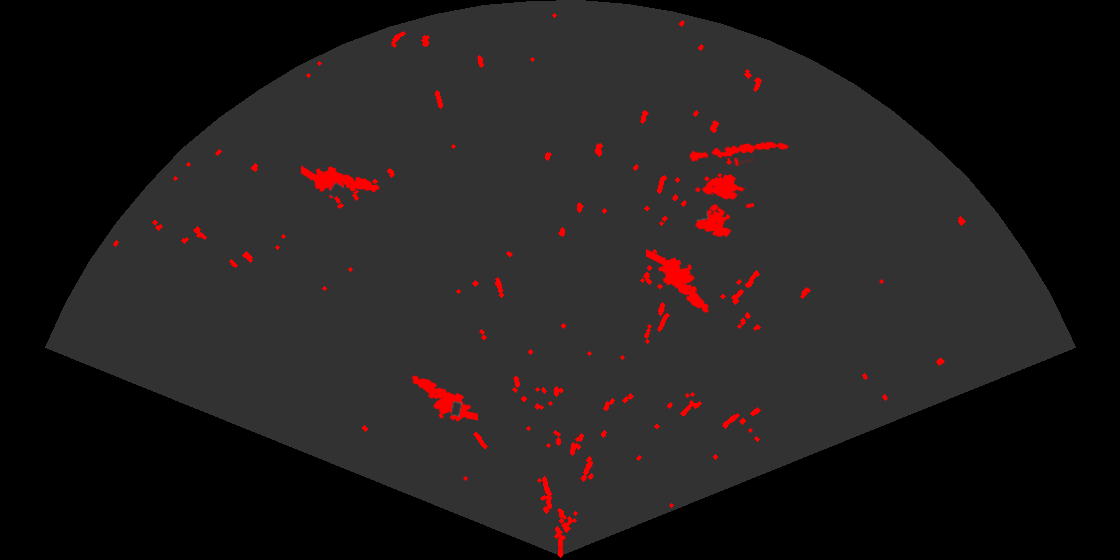cage: (693, 158, 754, 239)
chain: (687, 140, 790, 163)
frogman: (646, 248, 710, 314), (410, 374, 478, 423), (301, 164, 381, 200)
